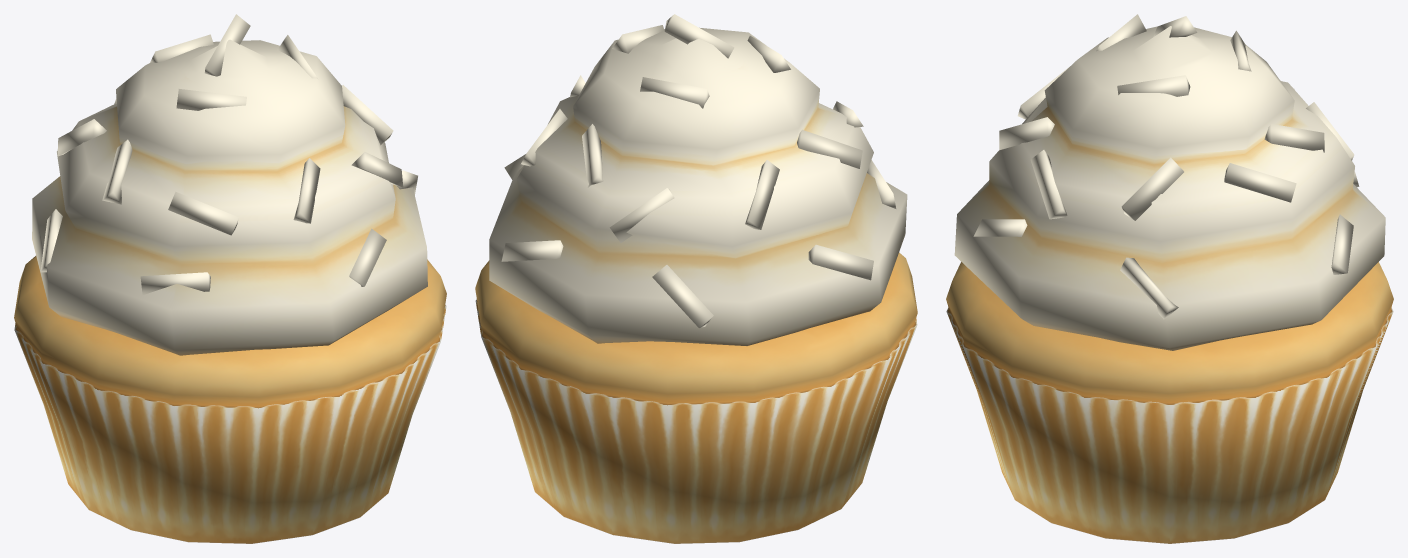
File: cupcakeSprinkle.gltf
3 views of the same model, side by side, from view 1: azimuth 30°, elevation 25°; view 2: azimuth 150°, elevation 25°; view 3: azimuth 270°, elevation 25° (orthographic). The views are drawn at different scales.
Visible parts, largest first — view 1: Yellow Sprinkle.002; view 2: Yellow Sprinkle.002; view 3: Yellow Sprinkle.002.
Boxes of the visible parts, bbox=[...] form: Yellow Sprinkle.002: bbox=[14, 14, 446, 543]; Yellow Sprinkle.002: bbox=[475, 14, 917, 543]; Yellow Sprinkle.002: bbox=[946, 14, 1393, 543].
Bounding box in the file's own units: 1.07 × 1.22 × 1.07.
